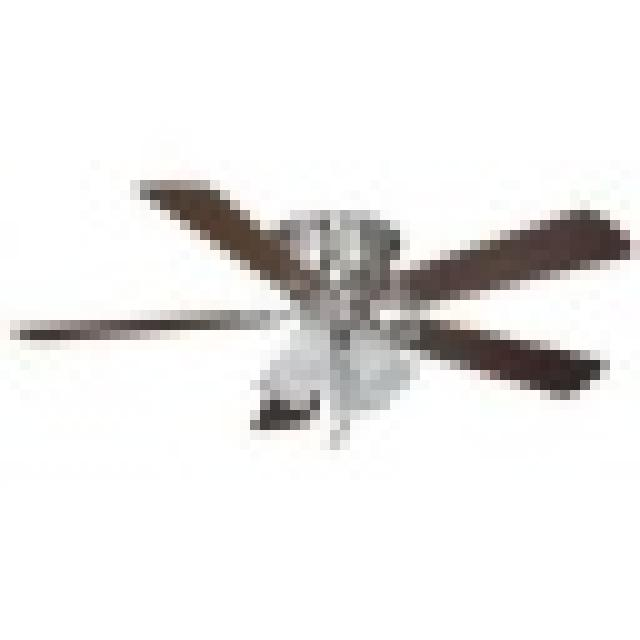Bulb: (19, 172, 640, 461)
